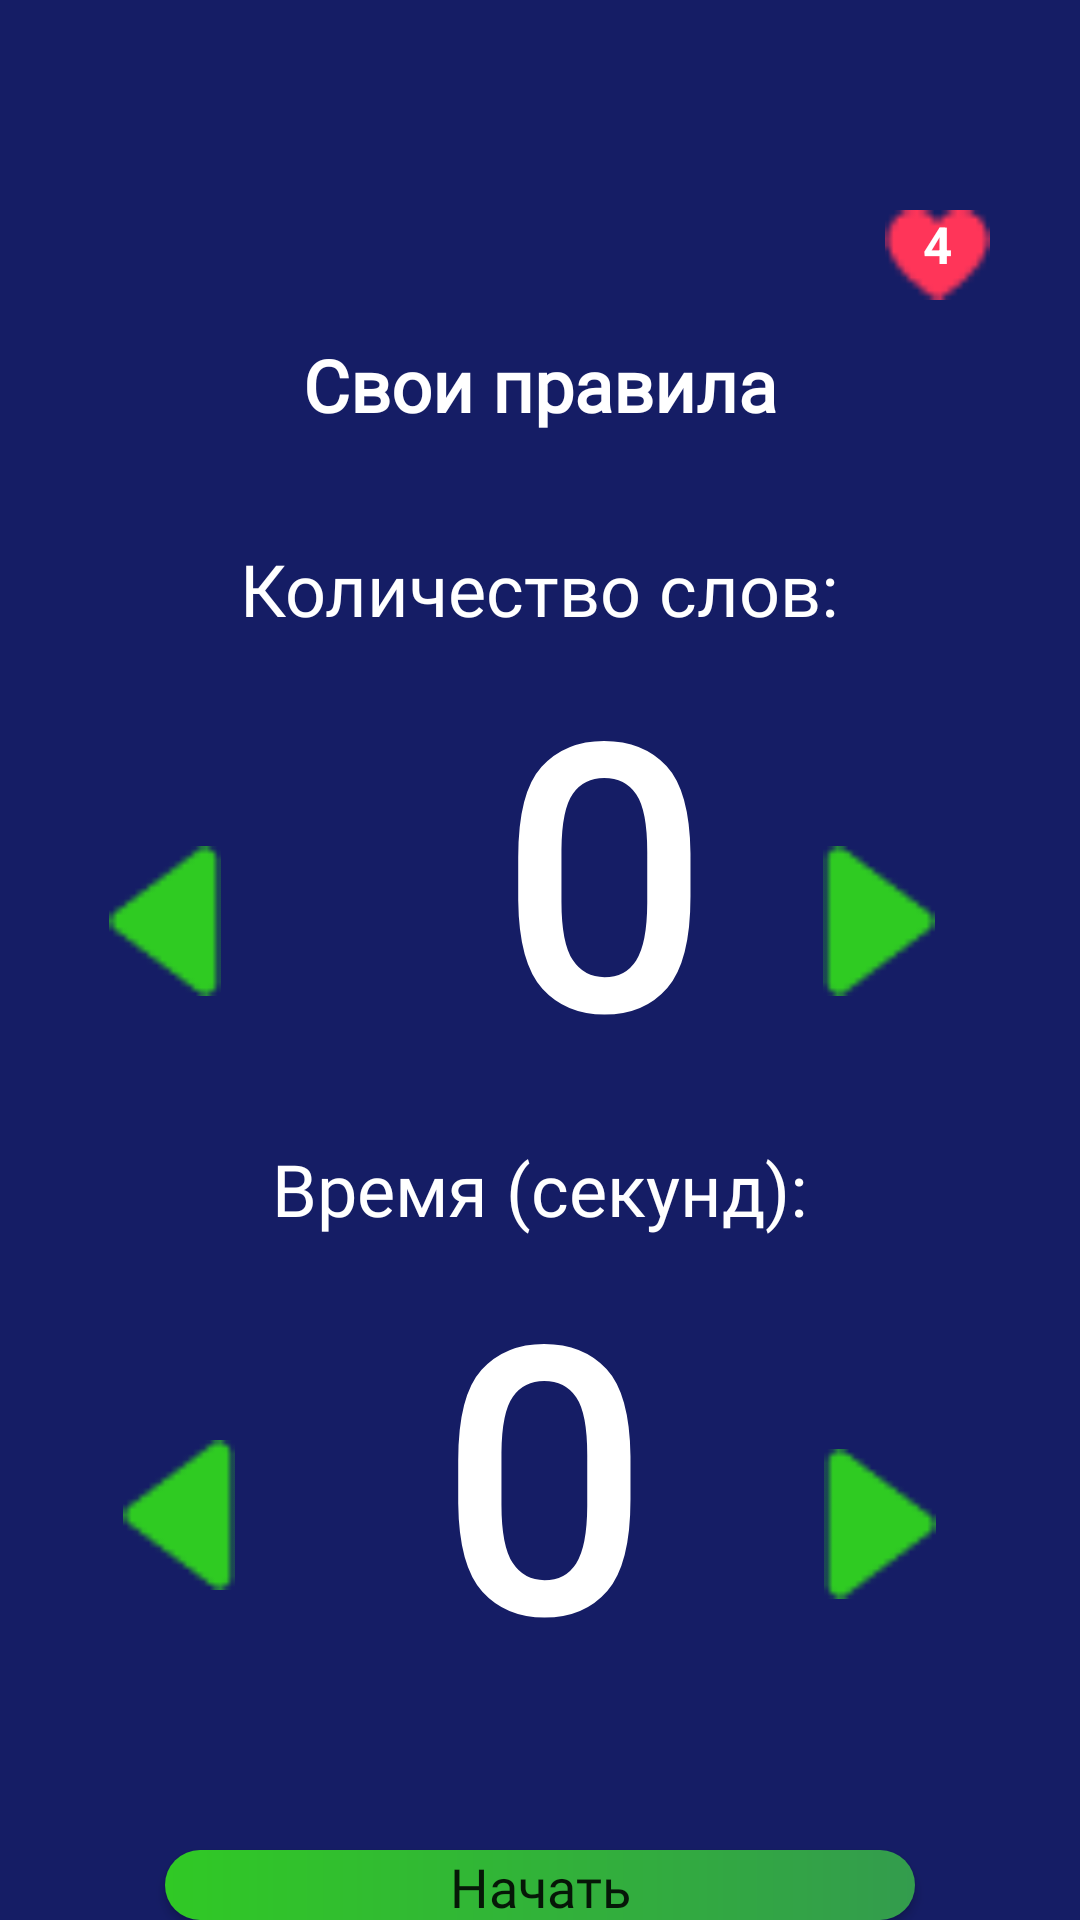

Icon bounding boxes for this 1080x1920 phone screenshot, format (x1, y1, x2, y2):
left: (109, 846, 221, 996), (123, 1440, 235, 1590)
right: (823, 846, 935, 996), (824, 1449, 936, 1599)
